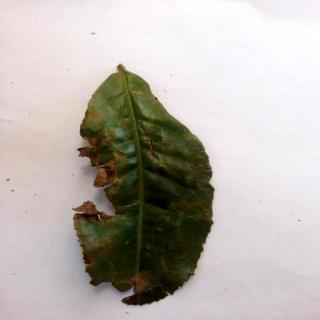Algal Leaf: (77, 66, 217, 306)
